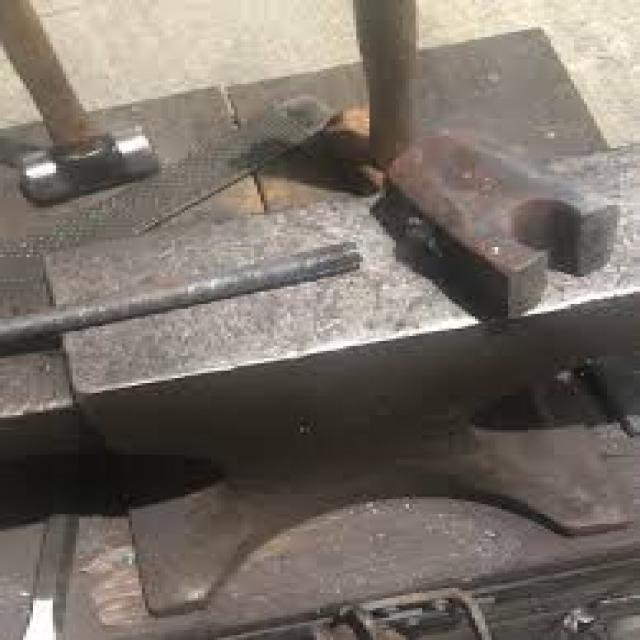hammer: (0, 0, 191, 210)
